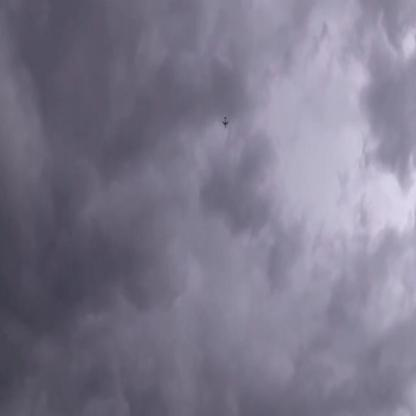CIV_Plane: (221, 117, 228, 128)
